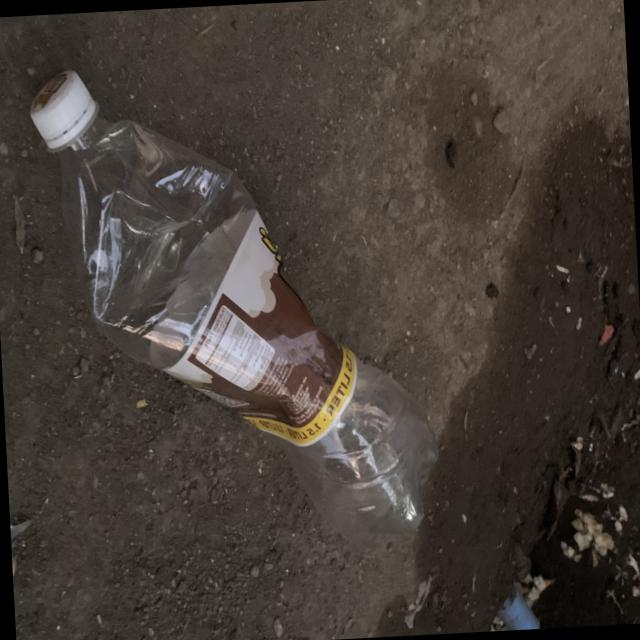Bottle: (30, 69, 437, 545)
